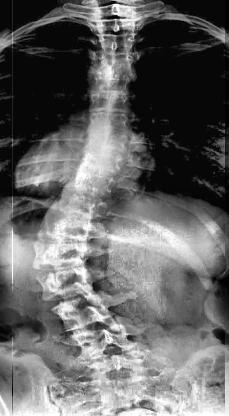Vertebrae: (35, 216, 109, 247), (47, 192, 110, 223), (51, 299, 117, 325), (31, 242, 82, 272), (39, 270, 91, 298), (74, 328, 134, 352), (80, 132, 133, 158), (73, 152, 123, 178), (64, 174, 118, 198), (87, 92, 136, 114), (82, 113, 130, 133), (92, 38, 136, 58), (90, 75, 132, 95), (92, 57, 134, 77), (96, 22, 138, 36)
